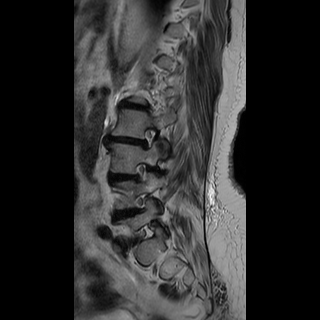LFS0: (128, 157, 153, 190), (139, 120, 163, 154)
LFS1: (128, 192, 154, 223)
